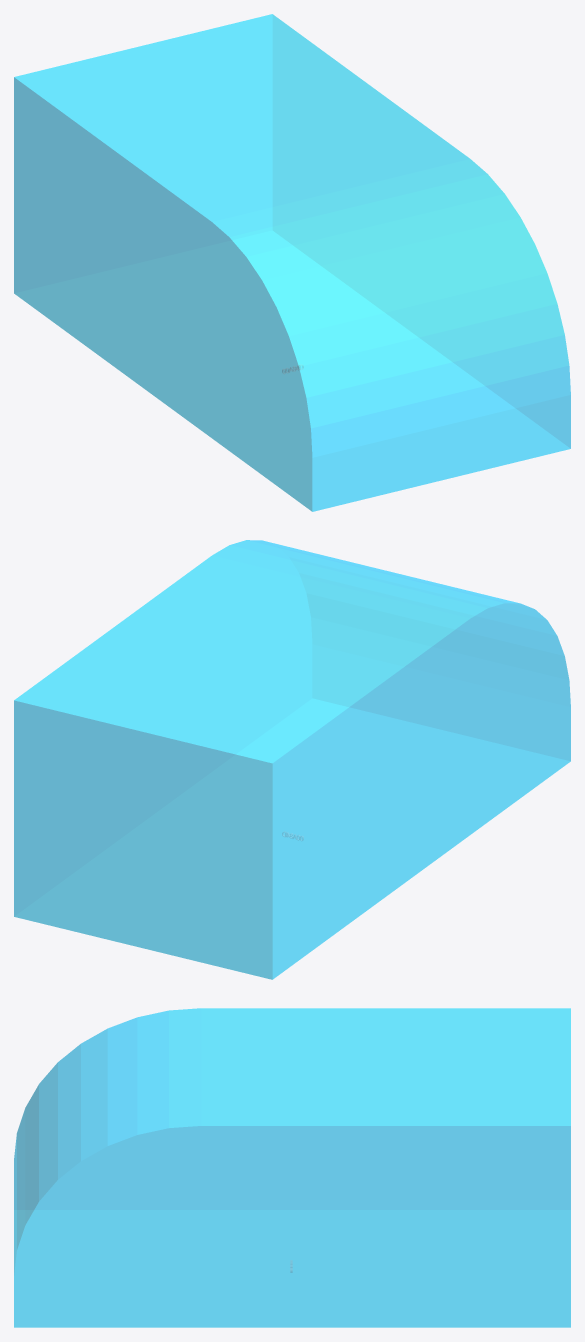
3 renders of one model, top to bottom at view 1: azimuth 30°, elevation 25°; view 2: azimuth 150°, elevation 25°; view 3: azimuth 270°, elevation 25°, orthographic. The views are drawn at different scales.
Parts seen in each view (by area): view 1: Cube; view 2: Cube; view 3: Cube.
Part boxes in pixels (x1,y1,x2,y2): Cube: [14, 14, 570, 511]; Cube: [14, 540, 570, 979]; Cube: [14, 1008, 570, 1327].
Size of the model in its own units: 2 by 1.6 by 4.
